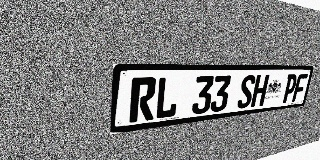3: (191, 76, 215, 115), (210, 75, 232, 113)
F: (292, 74, 308, 102)
H: (250, 75, 270, 107)
L: (154, 76, 180, 120)
P: (281, 74, 298, 103)
R: (129, 77, 157, 123)
S: (236, 75, 257, 109)
